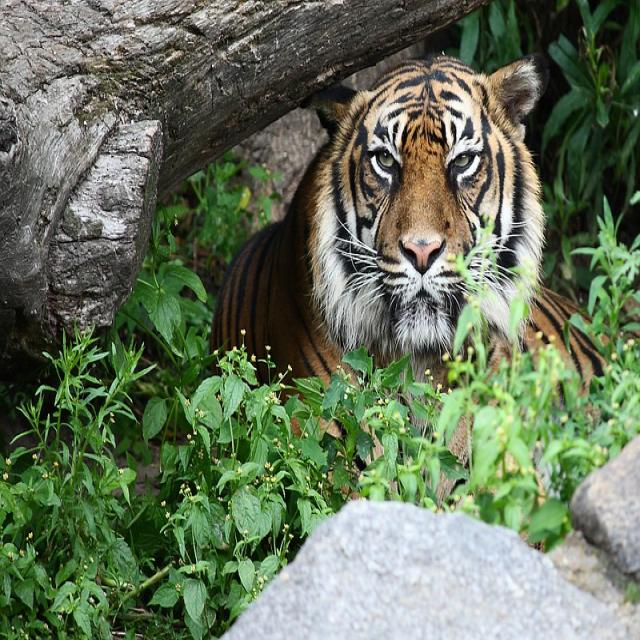Tiger: (210, 49, 638, 435)
